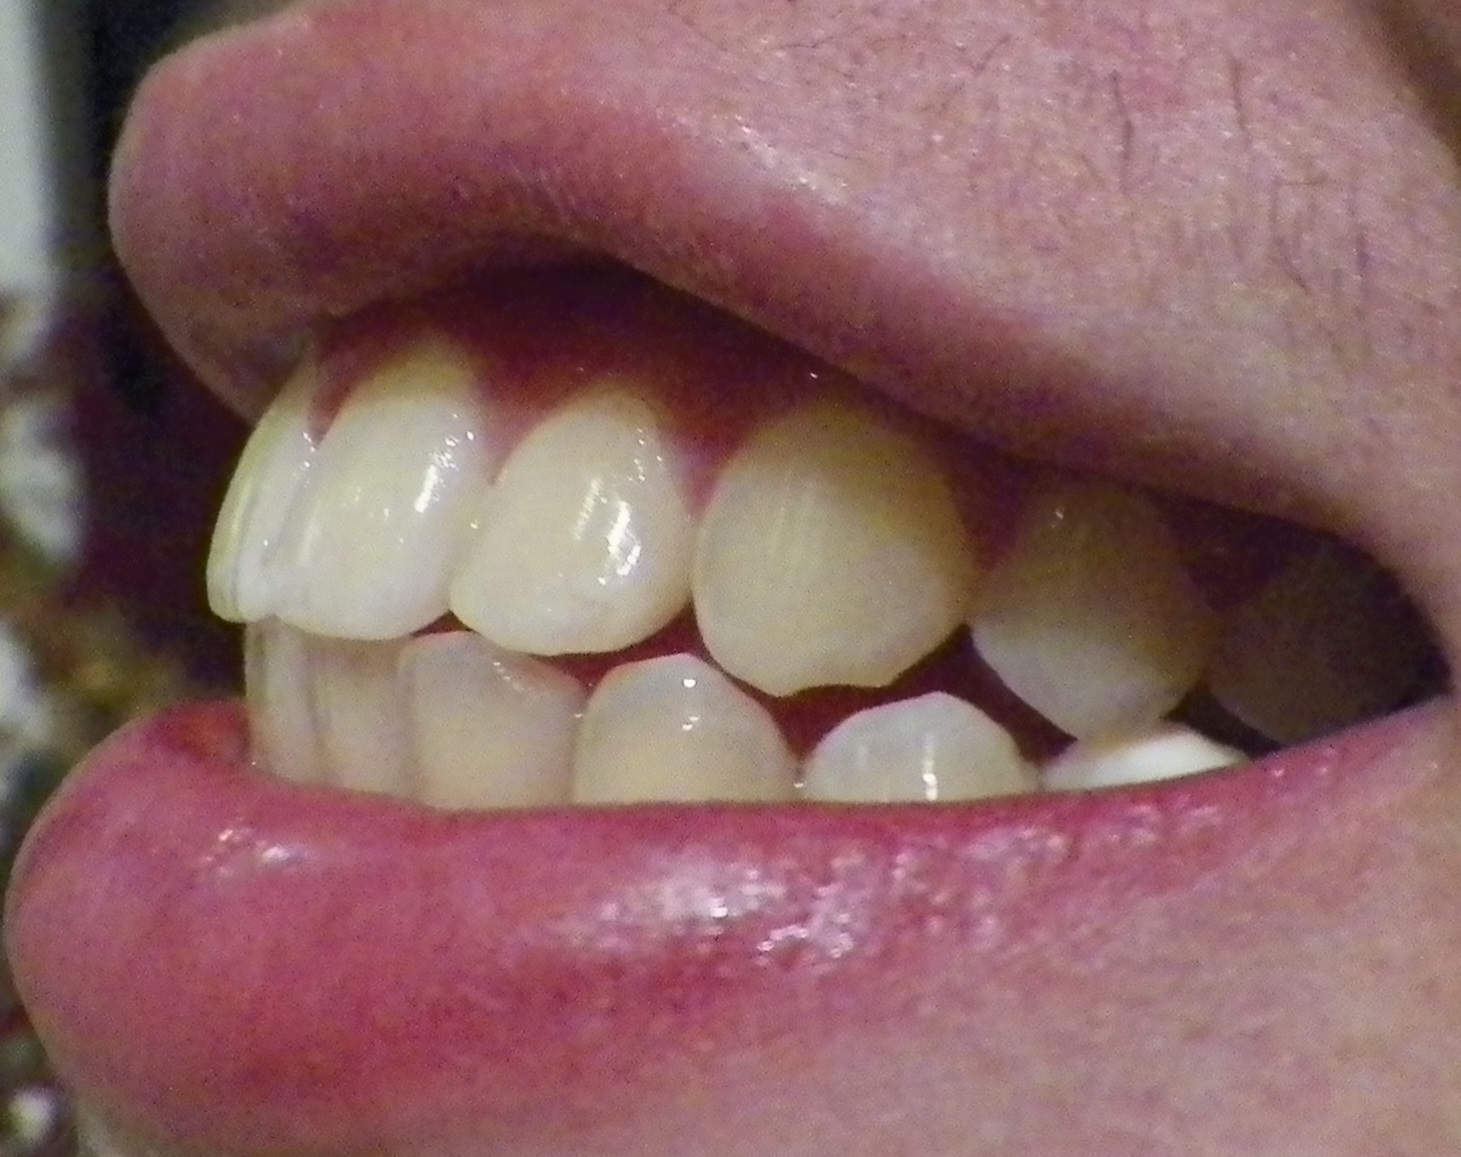boca: (208, 335, 1374, 791)
